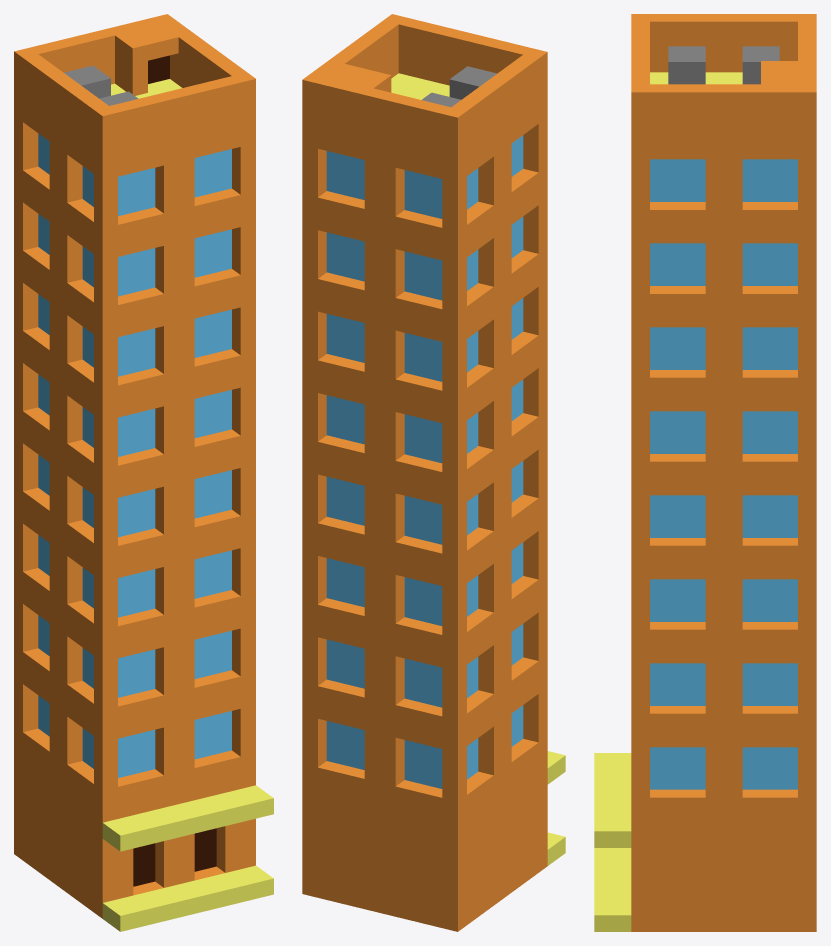
File: Building 3.obj
The picture shows the model from 3 angles, left to right: view 1: azimuth 30°, elevation 25°; view 2: azimuth 150°, elevation 25°; view 3: azimuth 270°, elevation 25°; orthographic projection. The views are drawn at different scales.
Bounding box in the file's own units: 1 × 5 × 1.2.
Materials: 1 (1 with a texture image).
